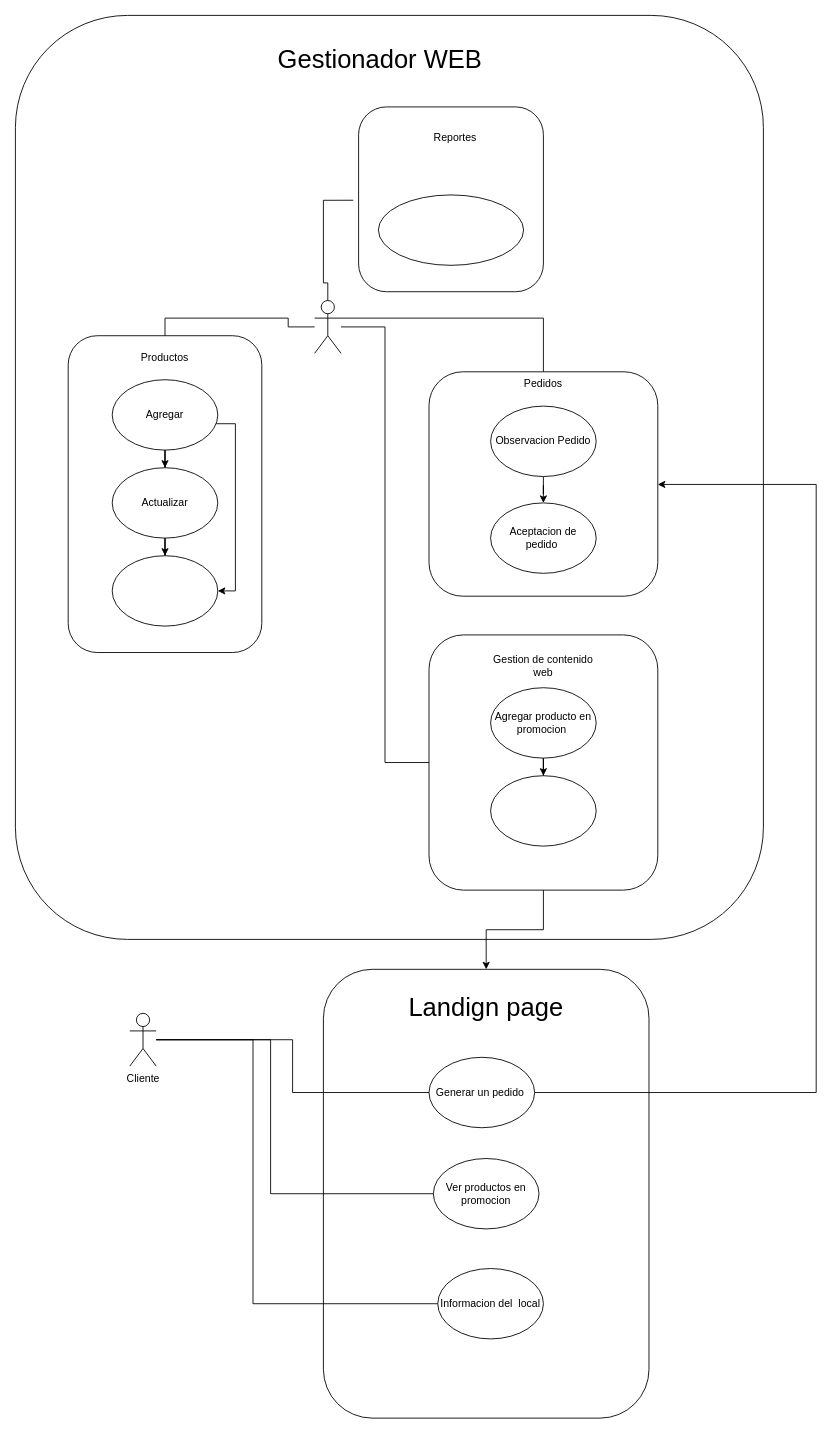
The diagram is 839 pixels wide and 1434 high, and some of its shapes have lost their labels. The shapes that lost their labels are listed below. From the top down, each one's box as (x1, y1, x2, y2) in pixels, then its label:
(378, 194, 524, 265): Configuracion Reportes automaticos
(314, 300, 341, 353): ADMIN
(111, 555, 218, 626): Eliminar
(490, 775, 596, 846): eliminar producto en promocion
